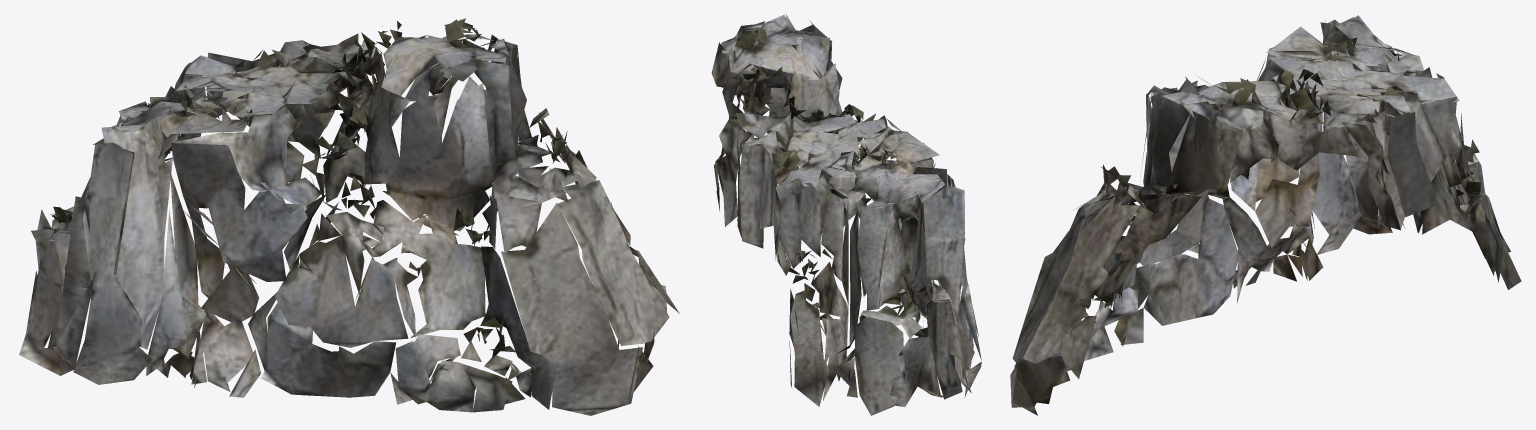
The model's file is serra_fels.glb.
3 renders of one model, left to right at view 1: azimuth 30°, elevation 25°; view 2: azimuth 150°, elevation 25°; view 3: azimuth 270°, elevation 25°, orthographic. The views are drawn at different scales.
Visible parts, largest first — view 1: Prop; view 2: Prop; view 3: Prop.
Boxes of the visible parts, bbox=[...] form: Prop: bbox=[19, 18, 679, 415]; Prop: bbox=[711, 14, 981, 415]; Prop: bbox=[1010, 15, 1521, 415].
Size of the model in its own units: 1.51 by 1.01 by 1.47.
1 material, 1 textured.
